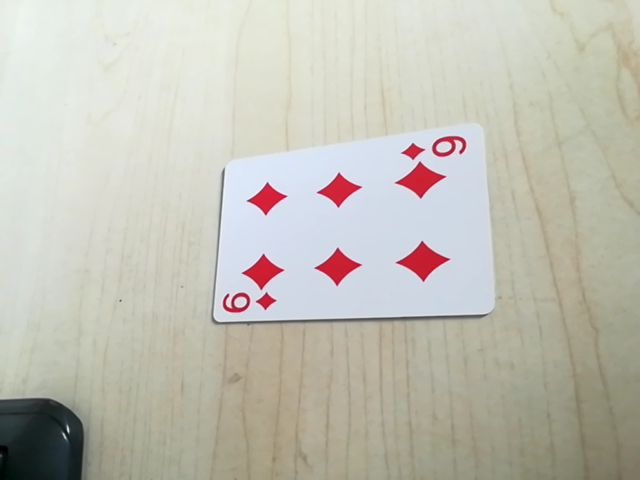fk 6: (400, 129, 472, 163), (220, 289, 280, 320)
